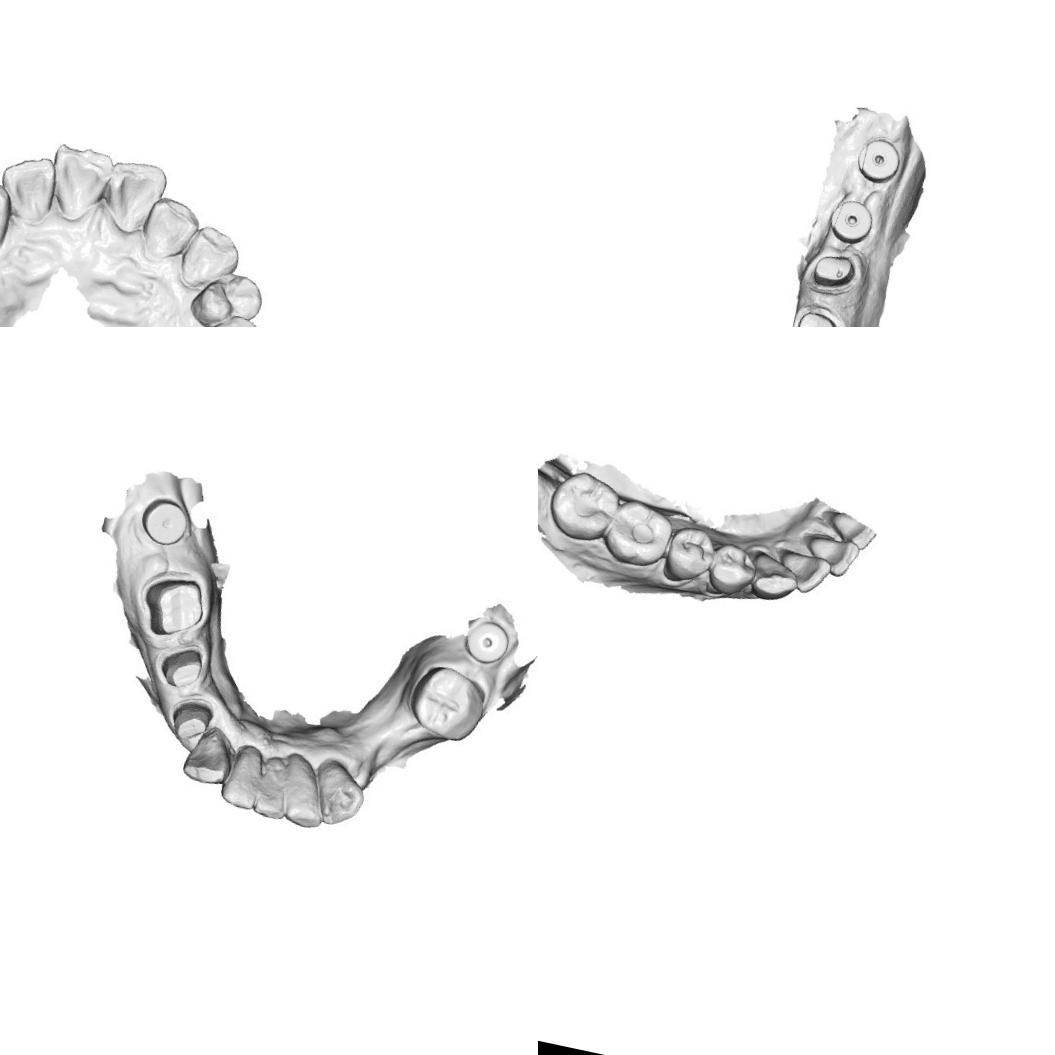canine: (174, 218, 249, 298), (178, 720, 242, 794), (312, 755, 370, 832), (748, 549, 802, 606), (0, 172, 18, 254)
crown: (142, 568, 210, 640), (800, 243, 868, 295), (152, 640, 210, 700), (164, 693, 219, 752), (790, 302, 845, 327)
implant: (134, 492, 194, 552), (459, 615, 513, 667), (848, 132, 903, 183), (826, 194, 874, 246)
incisor: (96, 152, 168, 244), (42, 140, 113, 228), (0, 146, 57, 226), (281, 753, 332, 832), (141, 196, 198, 259), (771, 540, 834, 597), (802, 528, 863, 581), (254, 747, 296, 822), (224, 742, 268, 805)
molar: (402, 657, 492, 746), (540, 465, 624, 550), (600, 498, 677, 571)
premolar: (658, 518, 722, 586), (198, 271, 263, 327), (704, 540, 760, 600), (191, 311, 270, 327)
